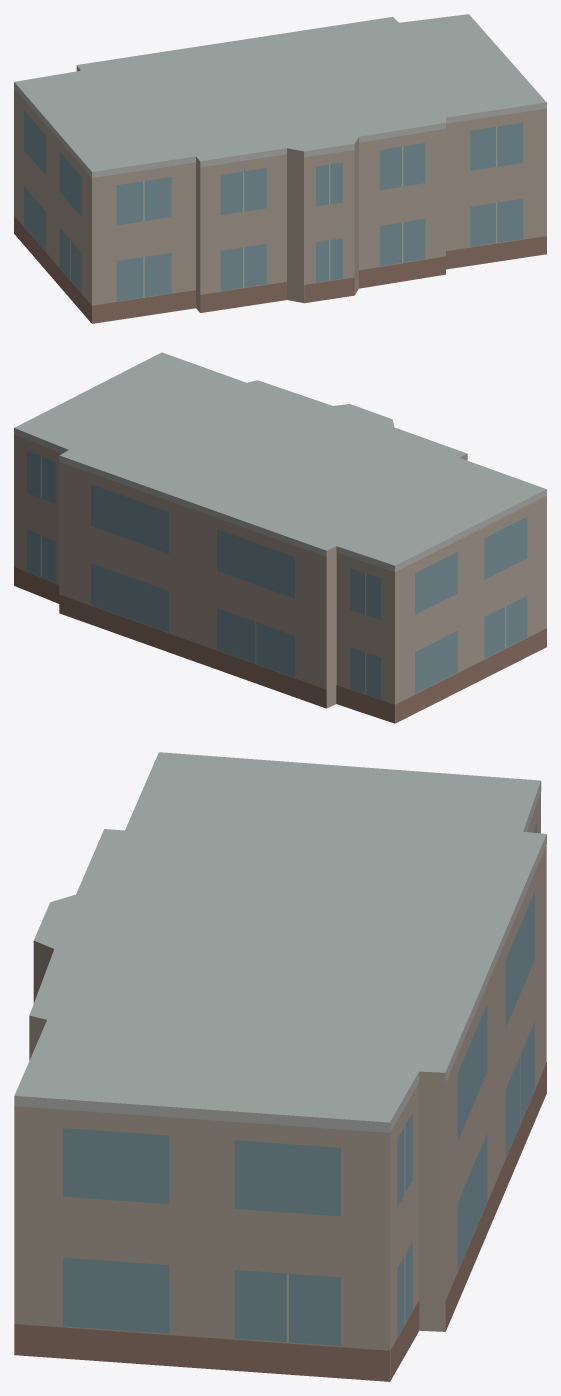
The model's file is survey-upis-32621632.glb.
3 views of the same model, one above another, from view 1: azimuth 30°, elevation 25°; view 2: azimuth 150°, elevation 25°; view 3: azimuth 270°, elevation 25° (orthographic). The views are drawn at different scales.
Parts seen in each view (by area): view 1: survey-upis-32621632.tmp; view 2: survey-upis-32621632.tmp; view 3: survey-upis-32621632.tmp.
Boxes of the visible parts, x1,y1,x2,y2 form: survey-upis-32621632.tmp: (14,14,546,323); survey-upis-32621632.tmp: (14,352,546,723); survey-upis-32621632.tmp: (14,752,546,1381).
Size of the model in its own units: 18.71 by 6.1 by 11.37.
